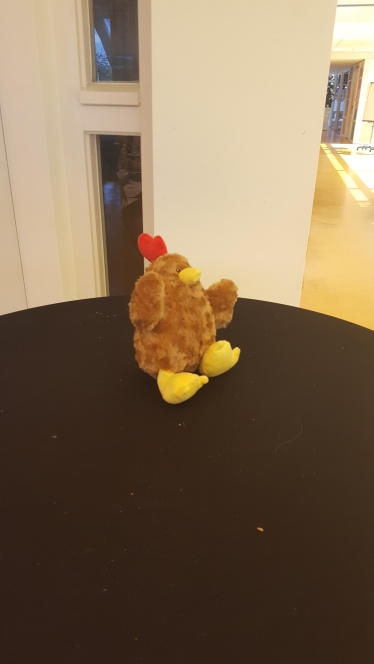chicken_left: (127, 228, 203, 400)
